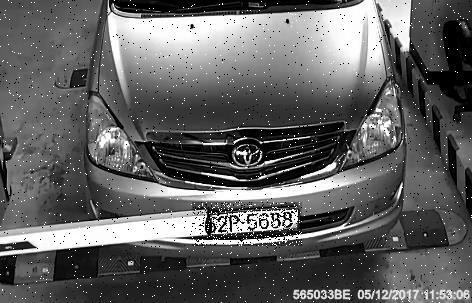License-plate: (193, 203, 303, 247)
